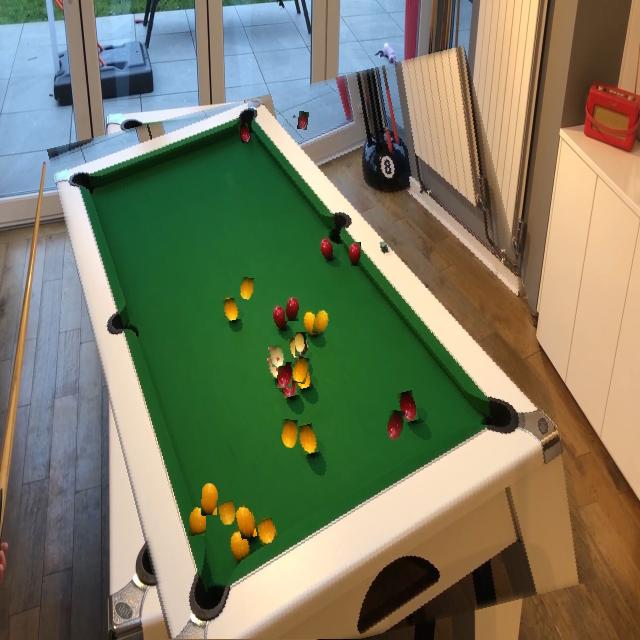Ball: (386, 411, 404, 441), (202, 483, 218, 515), (189, 507, 206, 536), (219, 500, 237, 526), (282, 419, 298, 448), (292, 357, 309, 384), (313, 310, 329, 335), (277, 362, 292, 388), (269, 344, 285, 367), (286, 297, 300, 321), (295, 332, 309, 356), (240, 278, 254, 300), (349, 242, 361, 266), (298, 112, 308, 130)
Billiard table: (76, 67, 567, 640)
